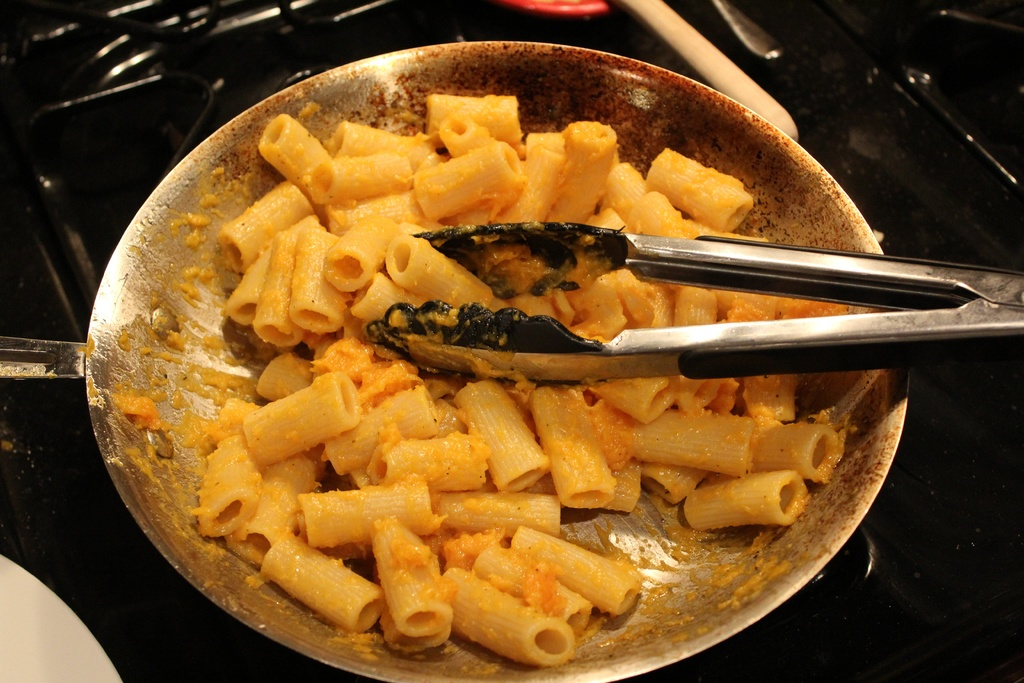pasta: (144, 103, 909, 639)
